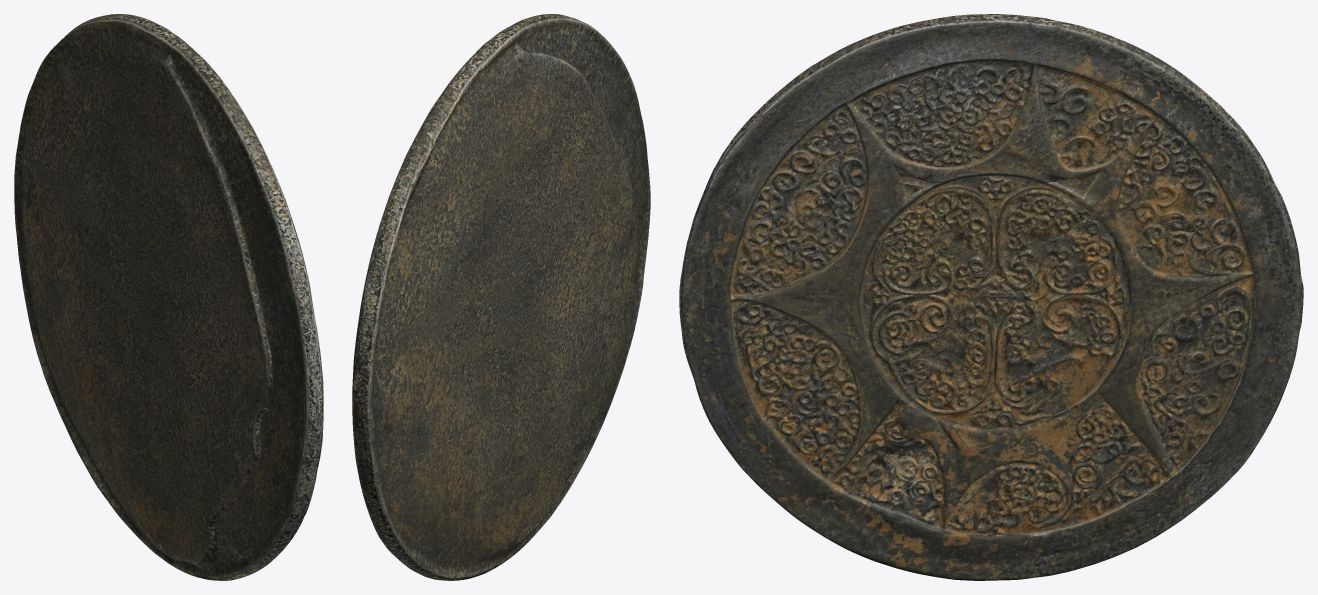
The model's file is cloud-mirror-web-mobile.glb.
3 views of the same model, side by side, from view 1: azimuth 30°, elevation 25°; view 2: azimuth 150°, elevation 25°; view 3: azimuth 270°, elevation 25° (orthographic). The views are drawn at different scales.
Parts seen in each view (by area): view 1: tripo_node_4533c6f9-ca47-4391-a8e8-314606ab59f9; view 2: tripo_node_4533c6f9-ca47-4391-a8e8-314606ab59f9; view 3: tripo_node_4533c6f9-ca47-4391-a8e8-314606ab59f9.
Part boxes in pixels (left/top/right/bottom): tripo_node_4533c6f9-ca47-4391-a8e8-314606ab59f9: left=14, top=14, right=323, bottom=580; tripo_node_4533c6f9-ca47-4391-a8e8-314606ab59f9: left=352, top=14, right=650, bottom=580; tripo_node_4533c6f9-ca47-4391-a8e8-314606ab59f9: left=679, top=14, right=1303, bottom=580.
Size of the model in its own units: 0.0626 by 0.9737 by 0.9793.
1 material, 1 textured.
